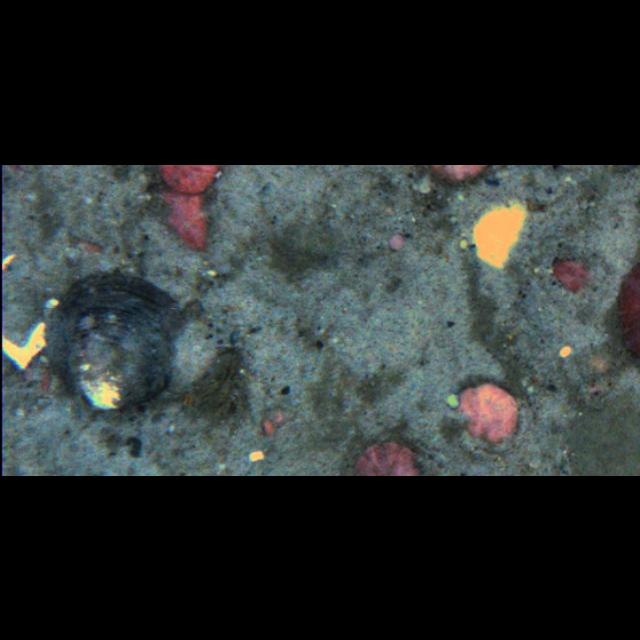Oyster-Indeterminate: (45, 273, 186, 410)
